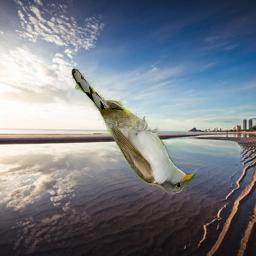Cuckoo: (69, 67, 199, 195)
